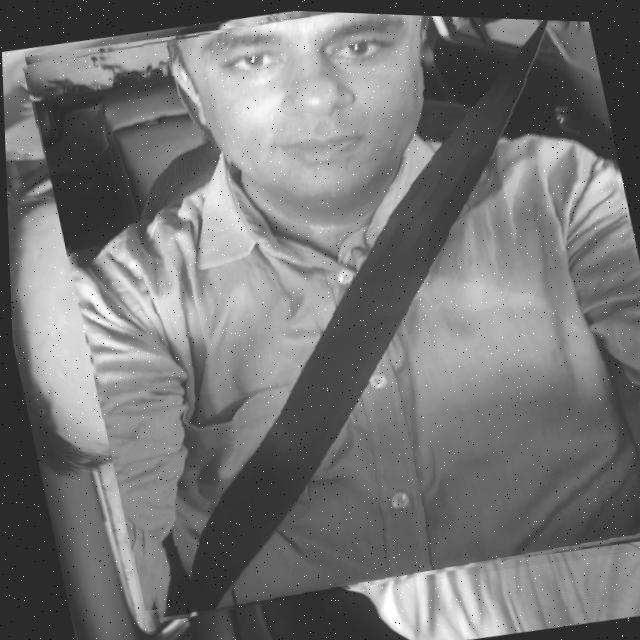seatbelt: (20, 1, 640, 634)
